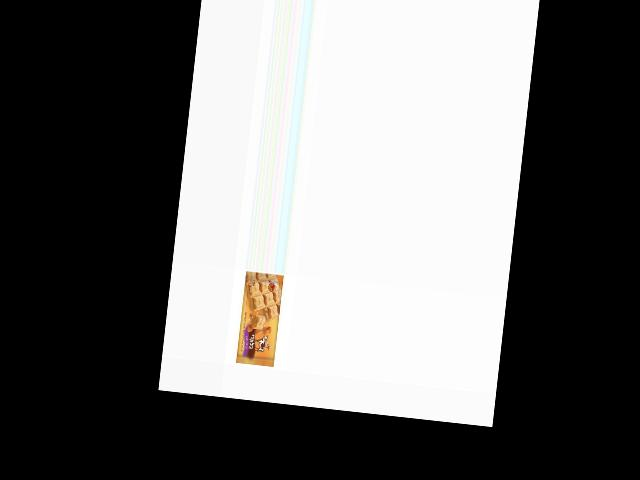chocolate: (232, 270, 283, 369)
